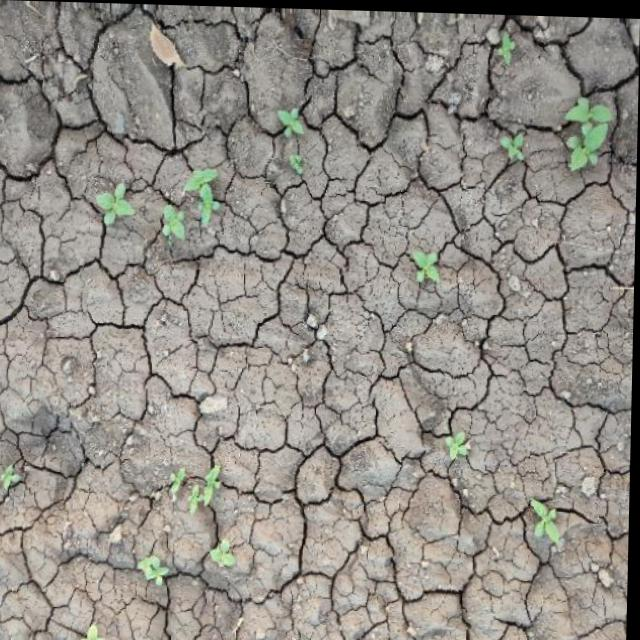crop: (90, 171, 233, 243), (563, 92, 614, 192), (165, 464, 236, 507), (278, 99, 311, 183), (530, 493, 572, 544), (133, 553, 176, 589), (407, 241, 445, 281), (207, 534, 243, 572), (501, 123, 531, 160), (445, 429, 479, 459), (490, 28, 518, 61)
